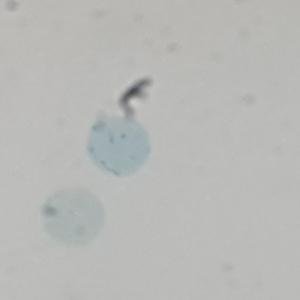erythrocyte: (40, 184, 107, 249)
punctate reticulocyte: (85, 114, 153, 179)
